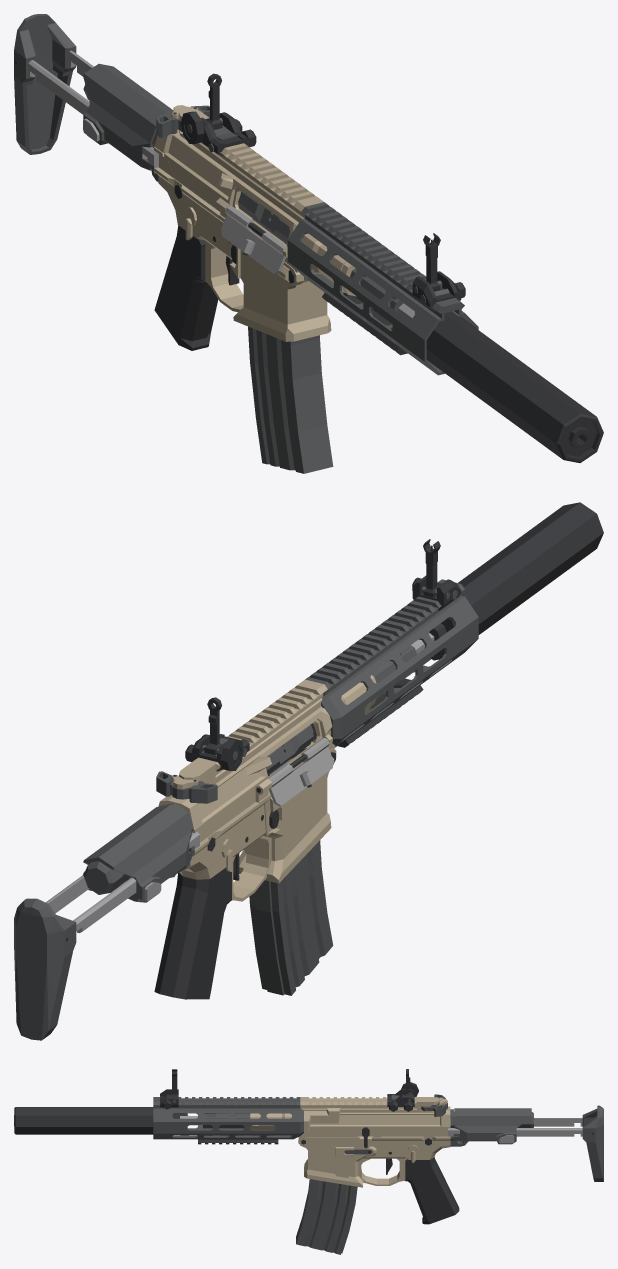
File: HoneyBadger.fbx
The picture shows the model from 3 angles, top to bottom: view 1: azimuth 30°, elevation 25°; view 2: azimuth 150°, elevation 25°; view 3: azimuth 270°, elevation 25°; orthographic projection. The views are drawn at different scales.
Visible parts, largest first — view 1: Body, Mag, Bolt; view 2: Body, Mag, Bolt; view 3: Body, Mag, Bolt.
Boxes of the visible parts, left/top/right/bottom form: Body: left=14, top=14, right=603, bottom=462; Mag: left=248, top=218, right=333, bottom=473; Bolt: left=156, top=105, right=209, bottom=137; Body: left=14, top=502, right=603, bottom=1040; Mag: left=249, top=748, right=333, bottom=995; Bolt: left=156, top=771, right=217, bottom=803; Body: left=14, top=1069, right=603, bottom=1224; Mag: left=296, top=1179, right=357, bottom=1254; Bolt: left=421, top=1094, right=447, bottom=1116.
Bounding box in the file's own units: 0.0519 × 0.2519 × 0.74.
